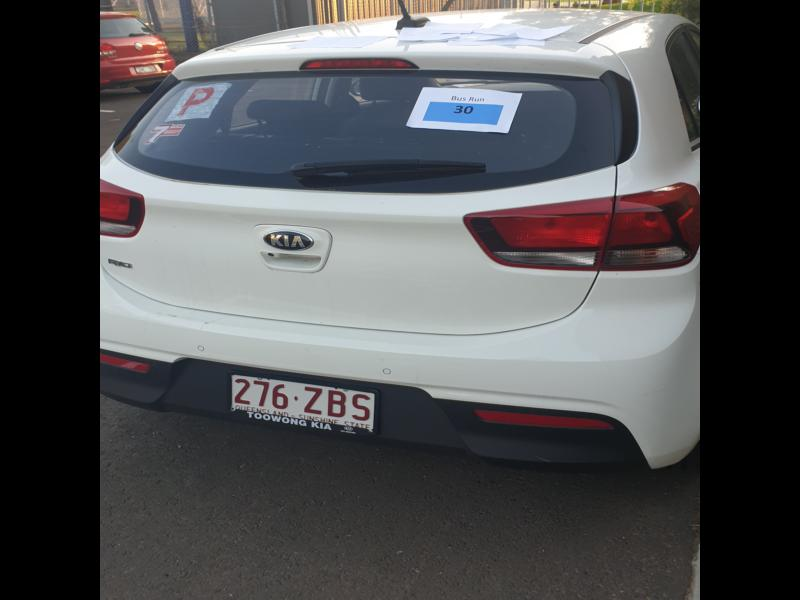BusRun: (422, 100, 505, 126)
PlateNo: (229, 374, 374, 437)
